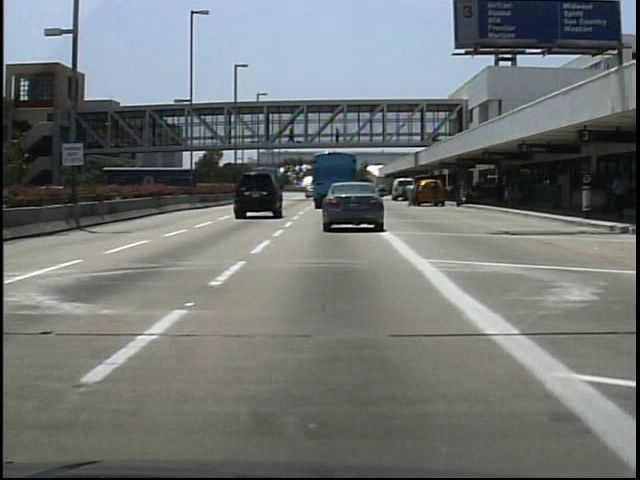person: (611, 169, 631, 219), (429, 177, 446, 211), (401, 179, 419, 209), (332, 125, 345, 152), (285, 122, 299, 144)
